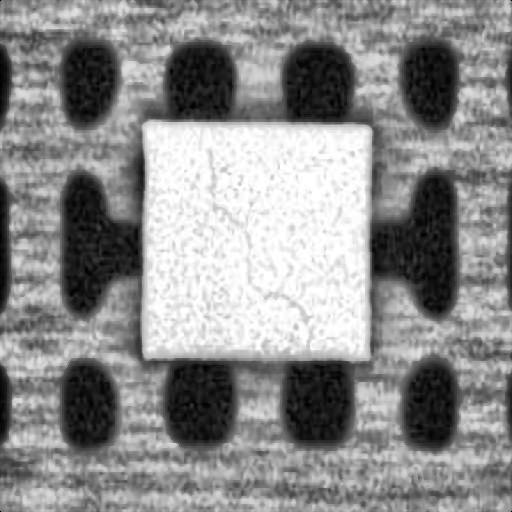DIE_CRACK: (214, 199, 312, 329)
